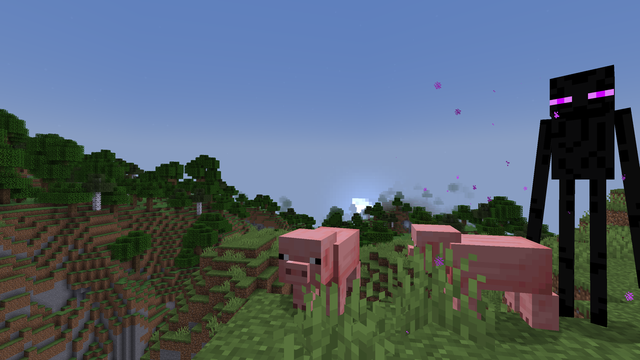cochons: (439, 229, 556, 335), (287, 225, 361, 317)
endermens: (536, 56, 639, 335)
